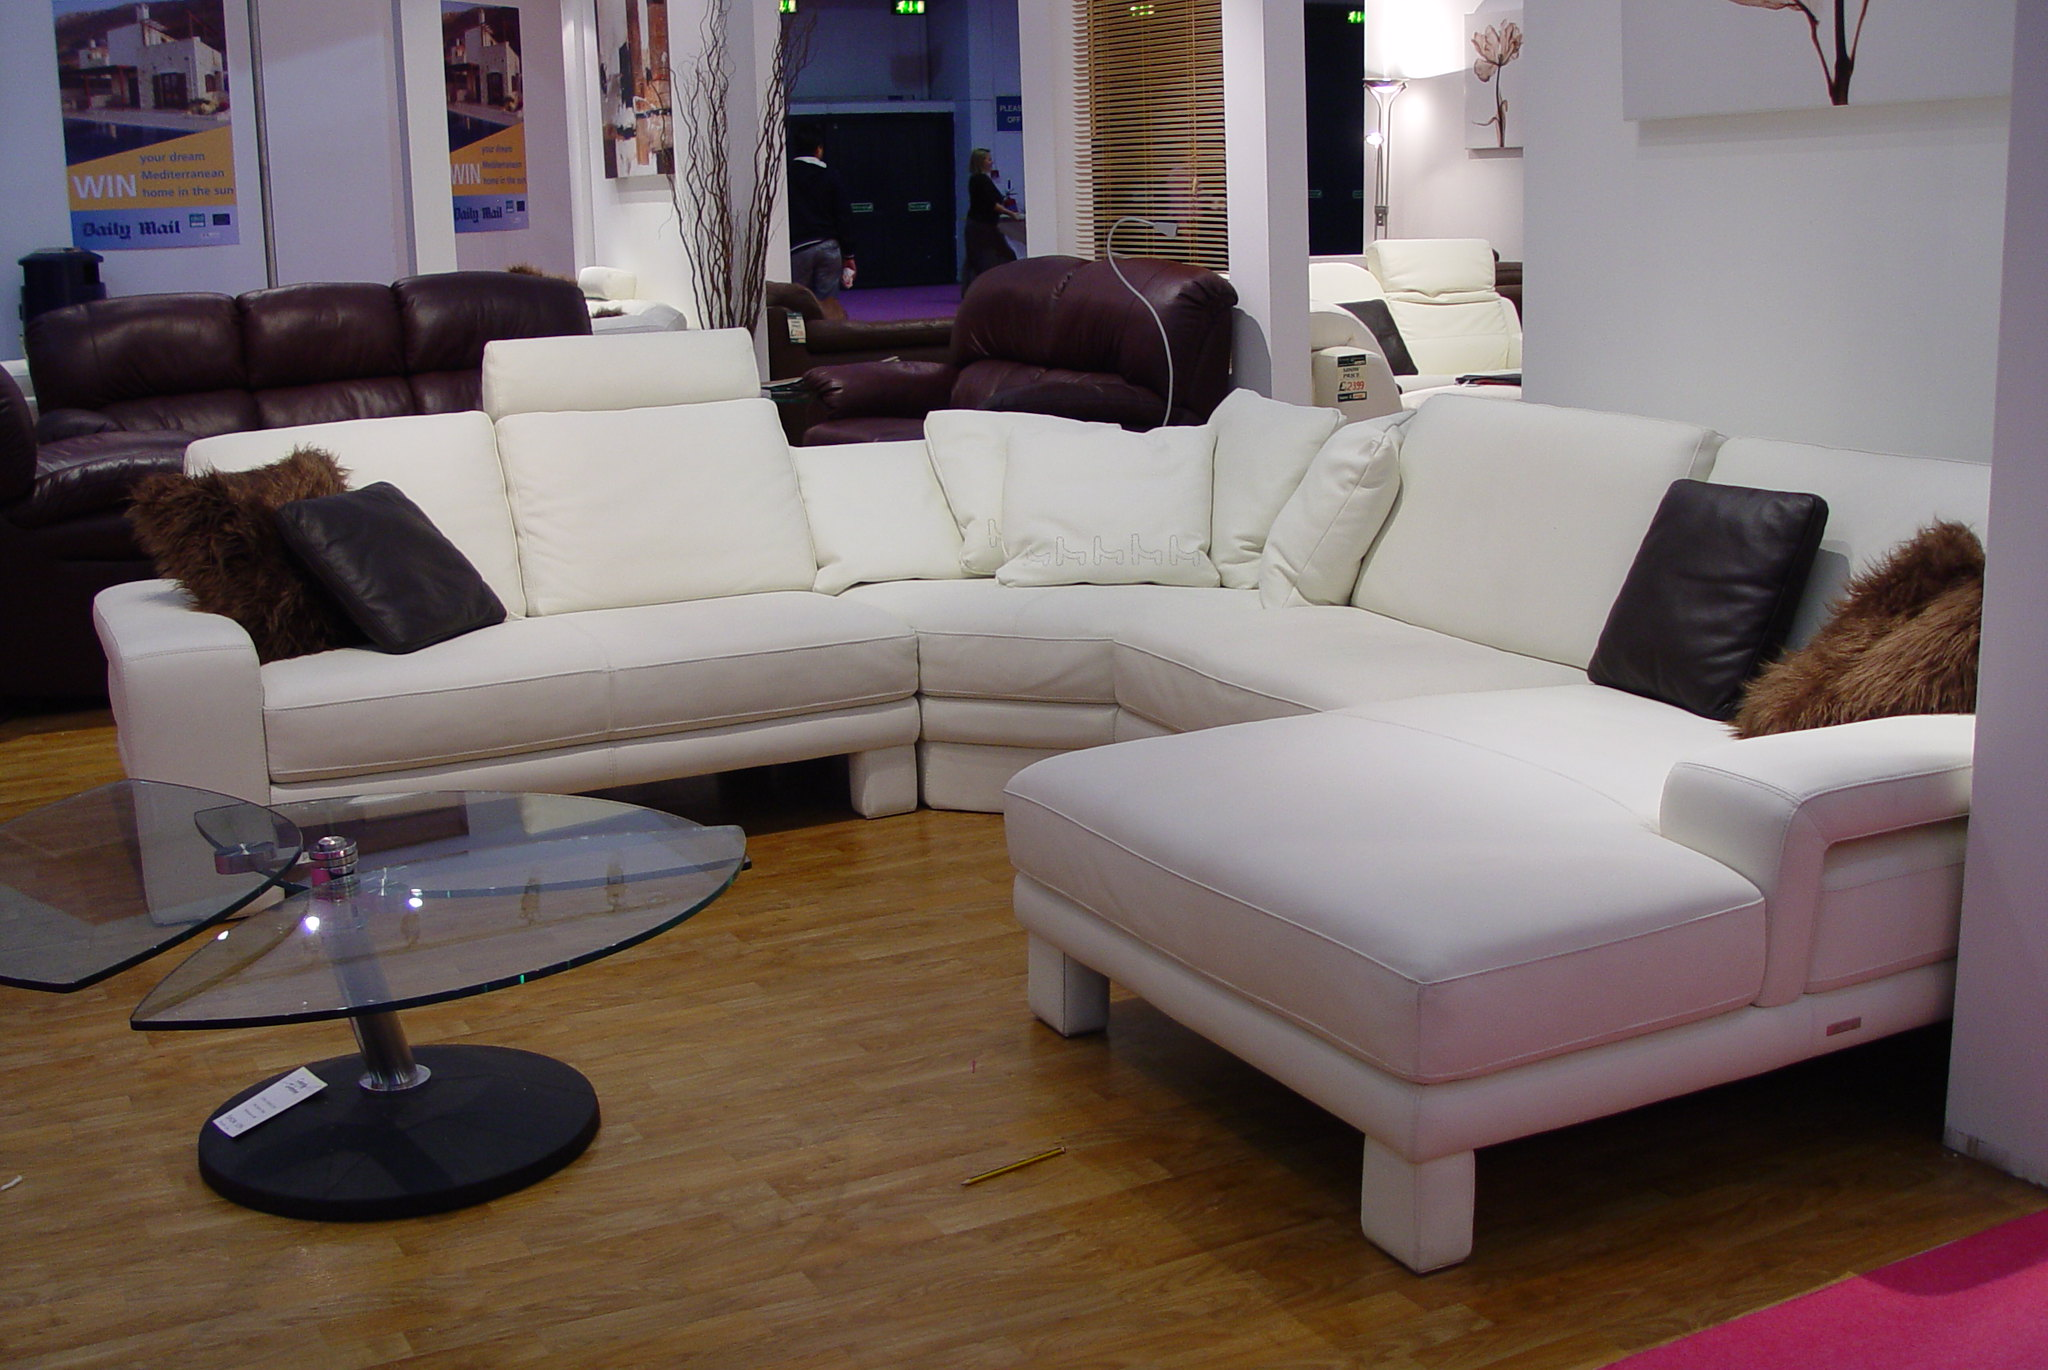sofa: (118, 414, 1981, 1167), (20, 300, 607, 495), (821, 251, 1235, 476)
